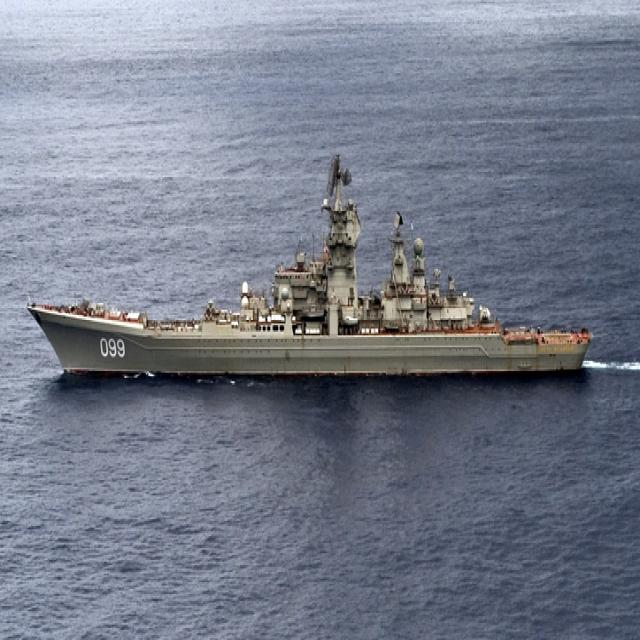navalvessels: (31, 127, 601, 399)
